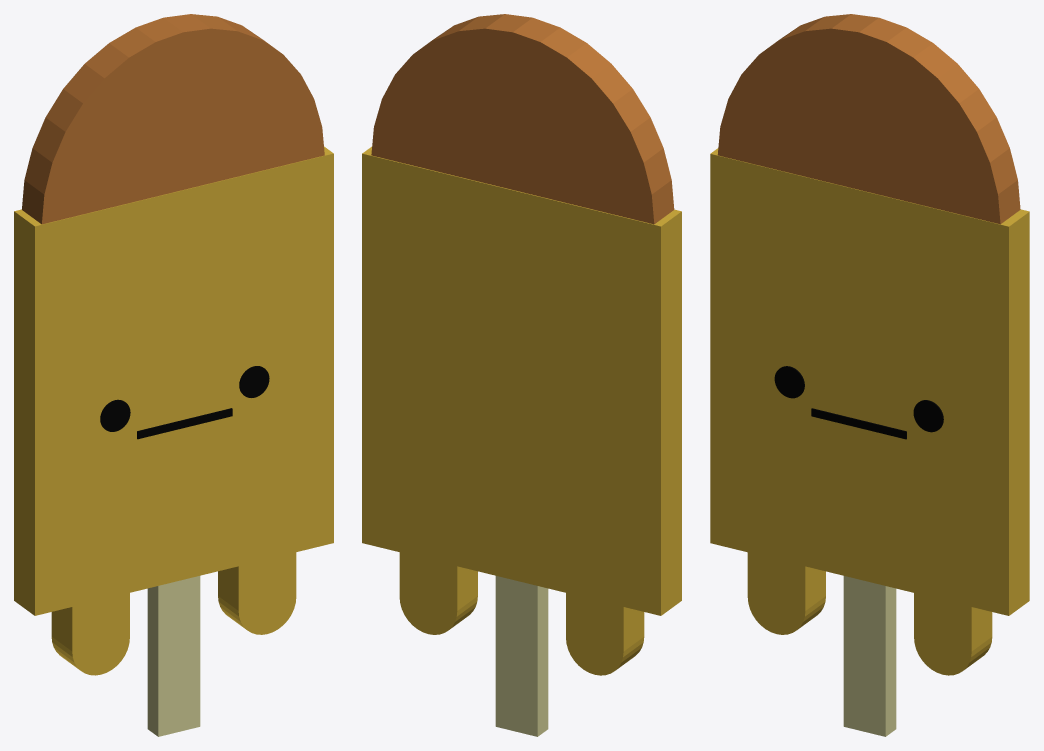
The model's file is bullet_enemie_practice_marionette.glb.
3 renders of one model, left to right at view 1: azimuth 30°, elevation 25°; view 2: azimuth 150°, elevation 25°; view 3: azimuth 330°, elevation 25°, orthographic.
Parts seen in each view (by area): view 1: Cube, Cylinder.003, Cube.002, Cylinder.005, Cylinder.004, Cube.001, Cylinder.001, Cylinder.002; view 2: Cube, Cylinder.003, Cube.002, Cylinder.005, Cylinder.004; view 3: Cube, Cylinder.003, Cube.002, Cylinder.004, Cylinder.005, Cube.001, Cylinder.002, Cylinder.001.
Boxes of the visible parts, x1=… form: Cube: x1=14, y1=146, x2=333, y2=615; Cylinder.003: x1=22, y1=14, x2=324, y2=224; Cube.002: x1=147, y1=576, x2=200, y2=736; Cylinder.005: x1=218, y1=552, x2=296, y2=634; Cylinder.004: x1=51, y1=593, x2=129, y2=675; Cube.001: x1=137, y1=408, x2=232, y2=439; Cylinder.001: x1=100, y1=399, x2=130, y2=431; Cylinder.002: x1=239, y1=366, x2=269, y2=397; Cube: x1=362, y1=146, x2=681, y2=615; Cylinder.003: x1=371, y1=14, x2=674, y2=224; Cube.002: x1=495, y1=576, x2=548, y2=736; Cylinder.005: x1=399, y1=552, x2=477, y2=634; Cylinder.004: x1=566, y1=593, x2=644, y2=675; Cube: x1=710, y1=148, x2=1029, y2=615; Cylinder.003: x1=717, y1=14, x2=1020, y2=224; Cube.002: x1=843, y1=576, x2=896, y2=736; Cylinder.004: x1=747, y1=552, x2=825, y2=634; Cylinder.005: x1=914, y1=593, x2=992, y2=675; Cube.001: x1=811, y1=408, x2=906, y2=439; Cylinder.002: x1=913, y1=400, x2=943, y2=432; Cylinder.001: x1=774, y1=366, x2=804, y2=398.
Bounding box in the file's own units: 2 × 4.5 × 0.2505.
